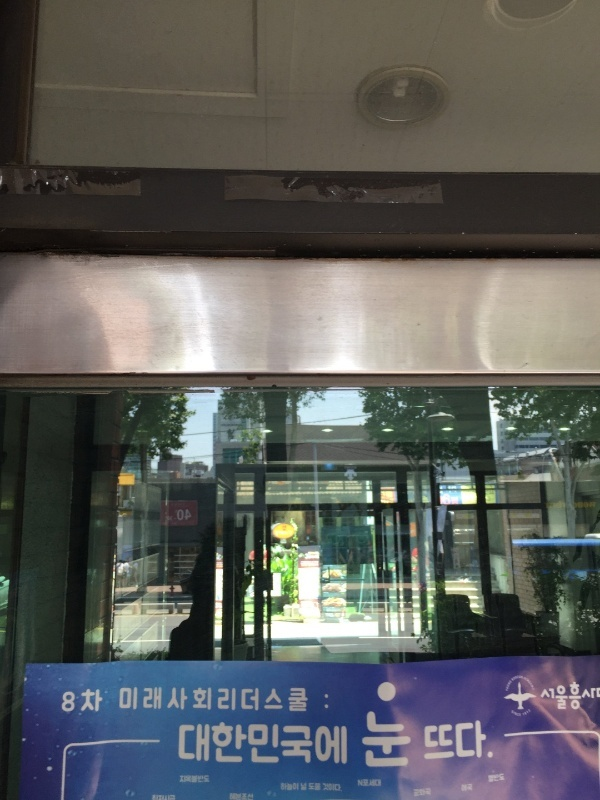text: (369, 712, 384, 774), (385, 712, 400, 774), (401, 712, 413, 774), (193, 722, 208, 769), (209, 722, 224, 769), (225, 722, 240, 769), (241, 722, 256, 769), (257, 722, 272, 769), (273, 722, 288, 769), (289, 722, 304, 769), (305, 722, 320, 769), (321, 722, 336, 769), (433, 717, 448, 764), (449, 717, 464, 764), (465, 717, 480, 764), (481, 717, 495, 764), (179, 722, 192, 769), (545, 683, 560, 719), (561, 683, 576, 719), (577, 683, 592, 719), (337, 722, 348, 769), (129, 686, 144, 717), (145, 686, 160, 717), (161, 686, 176, 717), (177, 686, 192, 717), (193, 686, 208, 717), (209, 686, 224, 717), (225, 686, 240, 717), (241, 686, 256, 717), (257, 686, 272, 717), (273, 686, 288, 717), (289, 686, 304, 717), (305, 686, 320, 717), (65, 687, 80, 716), (81, 687, 96, 716), (361, 712, 368, 774), (423, 717, 432, 764), (119, 686, 128, 717), (321, 686, 330, 717), (177, 508, 192, 526), (289, 781, 304, 795), (305, 781, 320, 795), (321, 781, 336, 795), (97, 687, 103, 716), (593, 683, 597, 719), (541, 683, 544, 719), (281, 781, 288, 795), (337, 781, 342, 795), (62, 687, 64, 716)
